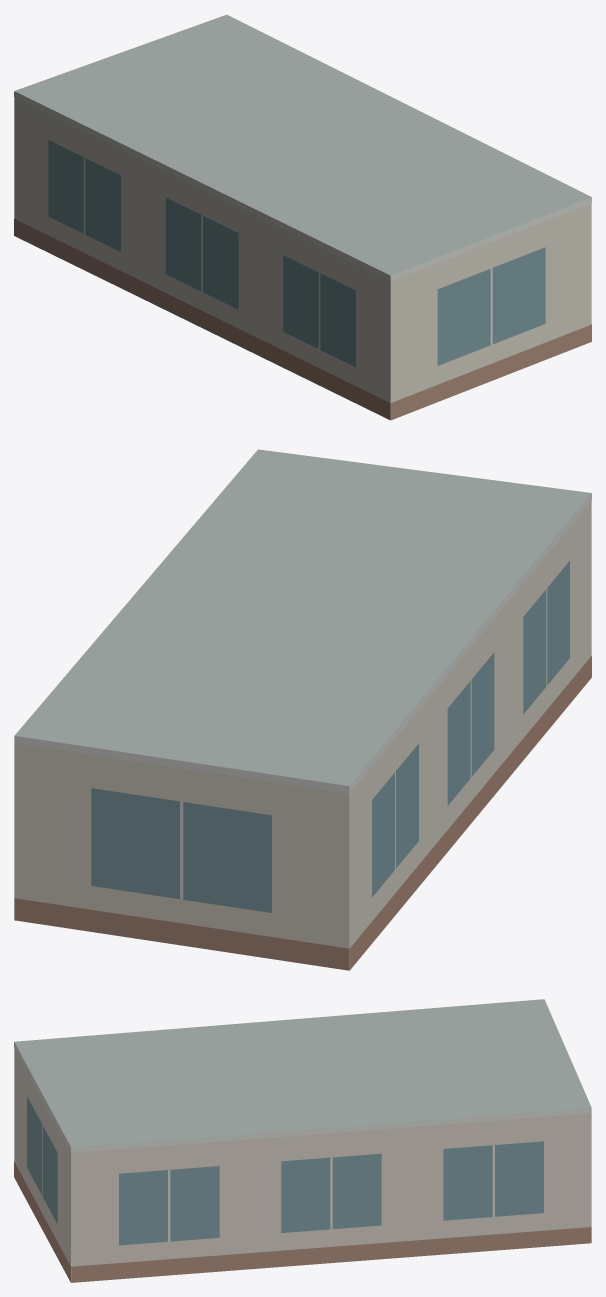
The model's file is survey-upis-32463089.glb.
3 views of the same model, one above another, from view 1: azimuth 30°, elevation 25°; view 2: azimuth 150°, elevation 25°; view 3: azimuth 270°, elevation 25° (orthographic). The views are drawn at different scales.
Parts seen in each view (by area): view 1: survey-upis-32463089.tmp; view 2: survey-upis-32463089.tmp; view 3: survey-upis-32463089.tmp.
Boxes of the visible parts, x1,y1,x2,y2 form: survey-upis-32463089.tmp: [14, 14, 591, 420]; survey-upis-32463089.tmp: [14, 449, 591, 970]; survey-upis-32463089.tmp: [14, 999, 591, 1282].
Bounding box in the file's own units: 7.17 × 3.05 × 11.8.
